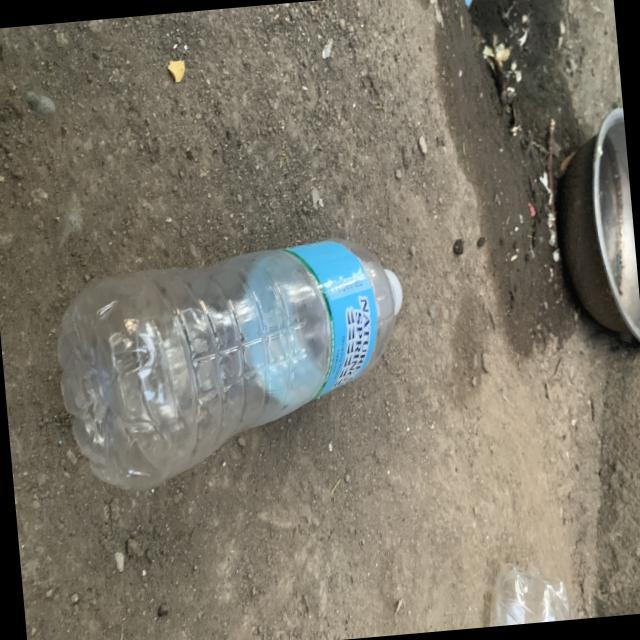Bottle: (57, 238, 402, 488)
